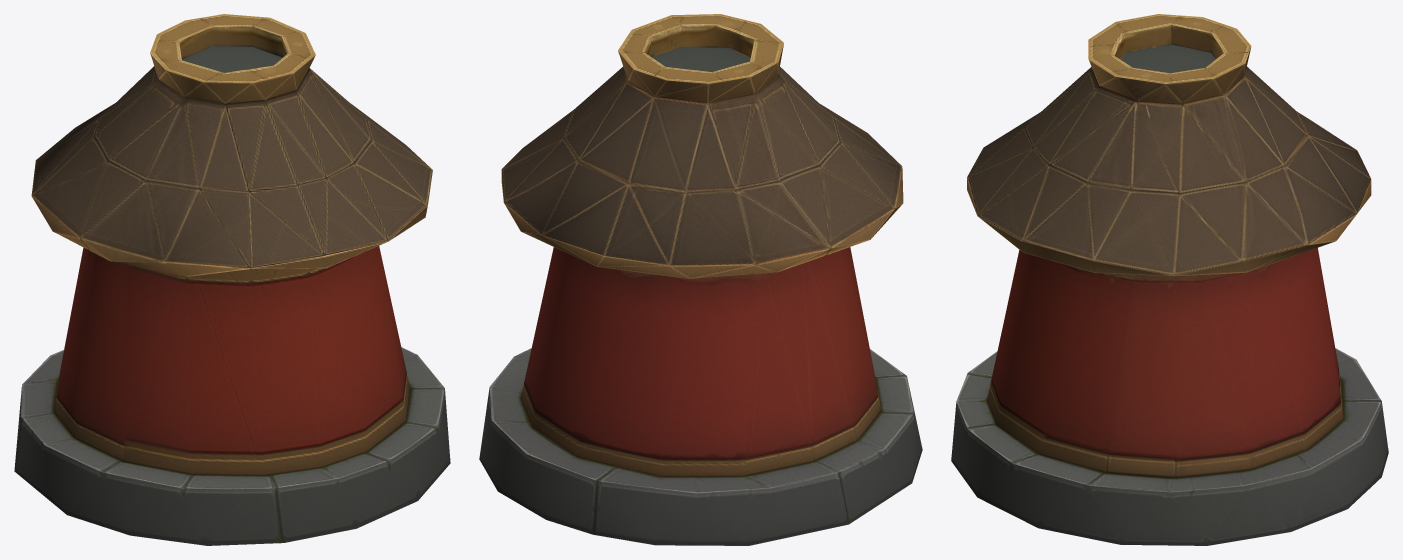
The model's file is Meshy_AI_Gray_Industrial_Spool_0824065537_texture.fbx.
The picture shows the model from 3 angles, left to right: view 1: azimuth 30°, elevation 25°; view 2: azimuth 150°, elevation 25°; view 3: azimuth 270°, elevation 25°; orthographic projection.
Parts seen in each view (by area): view 1: mesh_node; view 2: mesh_node; view 3: mesh_node.
Part boxes in pixels (left/top/right/bottom): mesh_node: left=14, top=14, right=450, bottom=545; mesh_node: left=479, top=14, right=922, bottom=545; mesh_node: left=951, top=14, right=1388, bottom=545.
Size of the model in its own units: 0.3906 by 0.4 by 0.3922.
Materials: 1 (1 with a texture image).
